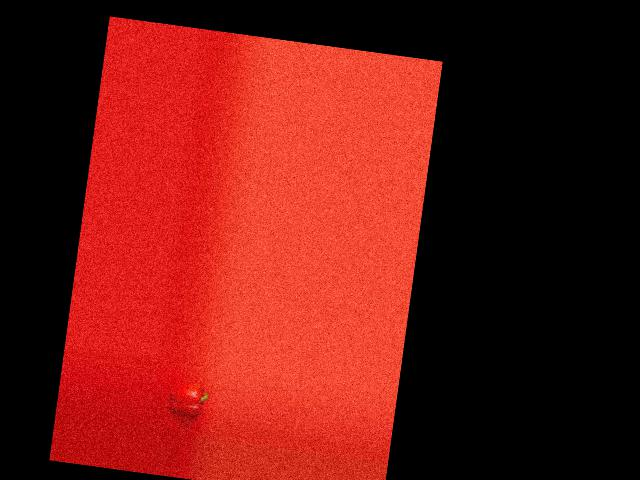bell_pepper: (164, 379, 211, 421)
